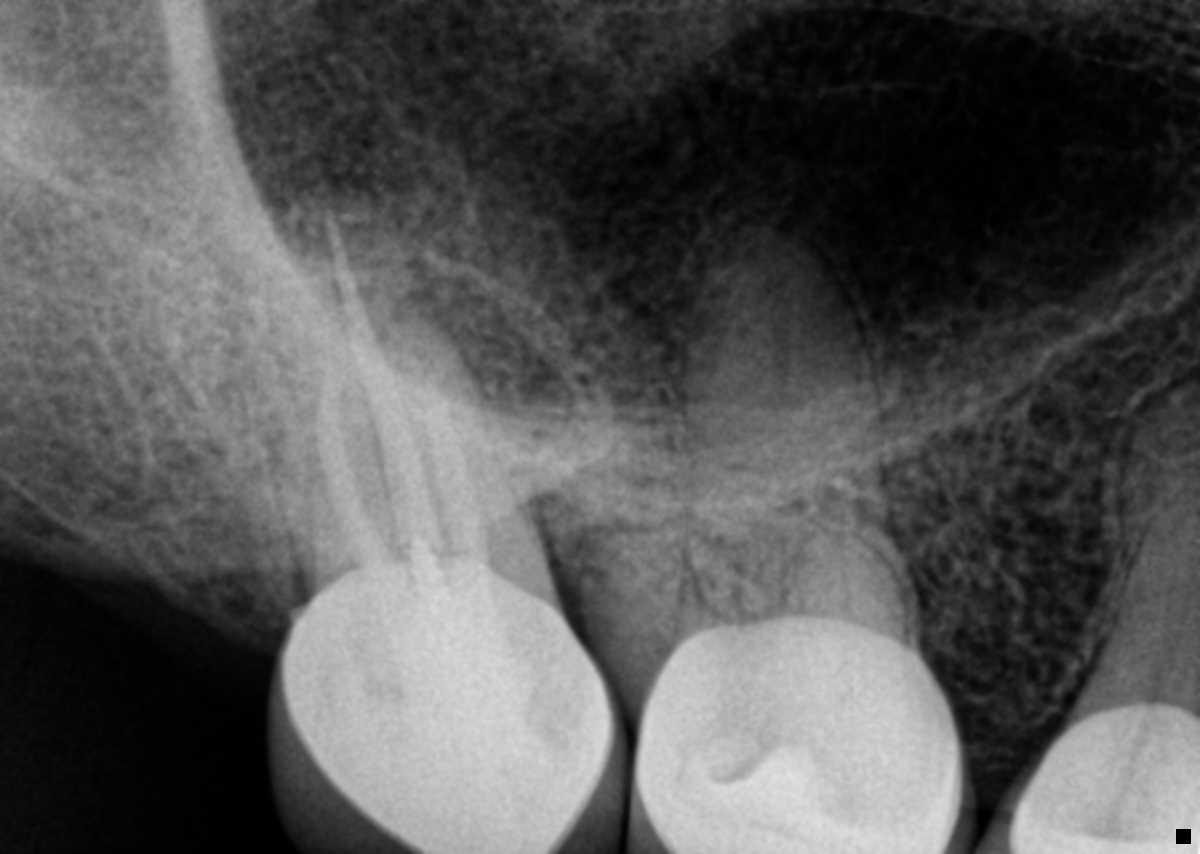Apical Lesion: (429, 274, 571, 440)
Distal Root: (254, 286, 408, 600), (576, 527, 733, 702)
Main Root: (1069, 373, 1200, 702)
Mesial Root: (379, 311, 546, 574), (780, 522, 908, 637)
Palatal Canal: (766, 263, 795, 417)
Palatal Root: (289, 181, 556, 599), (676, 225, 907, 637)
Root Canal Filling: (327, 207, 439, 557), (318, 358, 390, 571), (415, 382, 492, 568)
